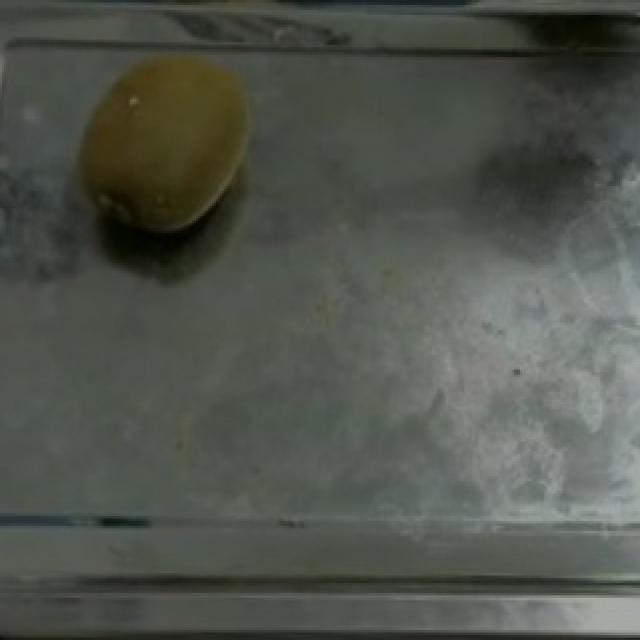Fruit: (56, 47, 272, 243)
